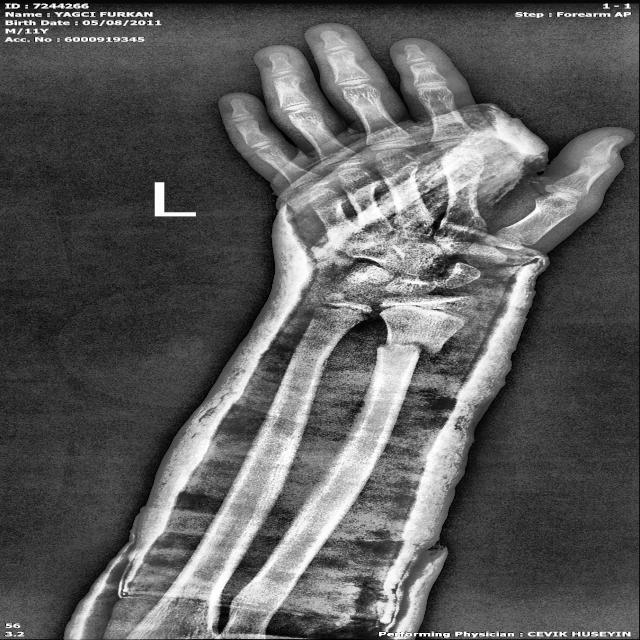Fracture: (366, 329, 452, 362)
